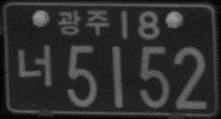1: (110, 43, 125, 111), (118, 7, 131, 41)
2: (174, 45, 209, 112)
5: (138, 44, 169, 108), (66, 43, 97, 106)
8: (137, 9, 160, 41)
광주_O: (58, 7, 110, 37)
너: (16, 42, 54, 89)
